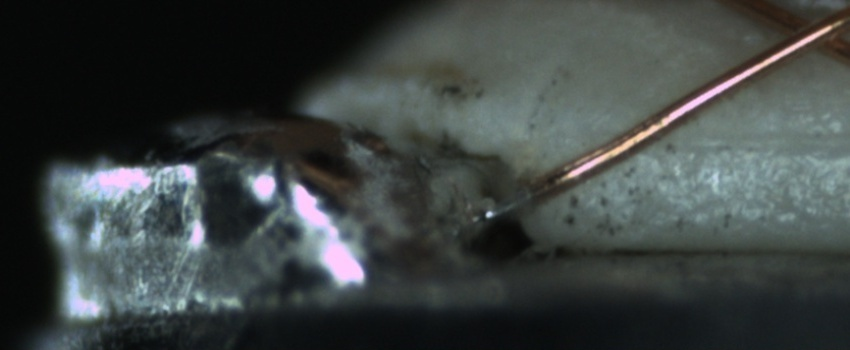CL: (760, 0, 849, 65)
DL: (636, 102, 843, 175)
TS: (476, 187, 531, 224)
